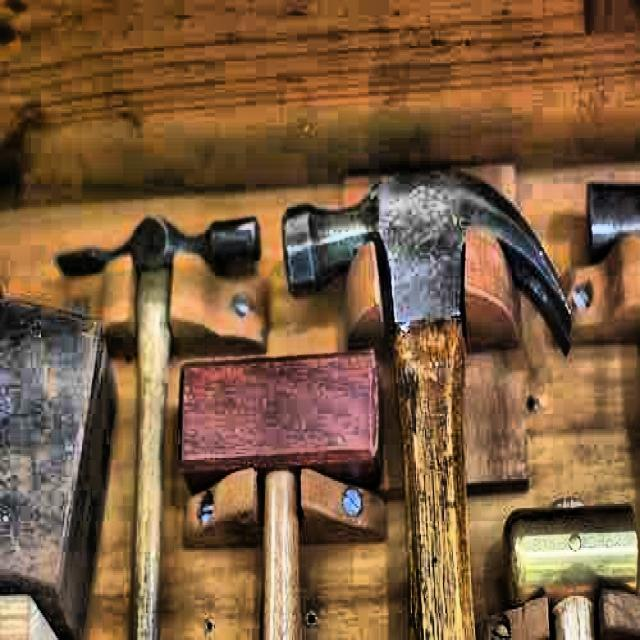hammer: (282, 170, 572, 640), (57, 216, 263, 640)
